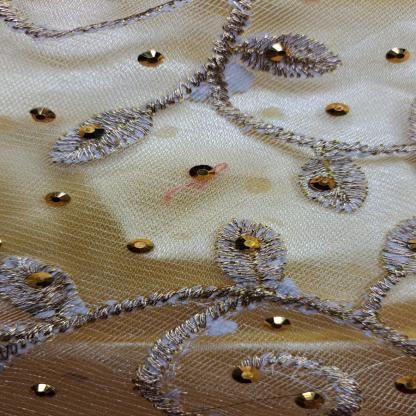spot: (154, 122, 190, 145), (250, 176, 280, 195), (255, 103, 288, 119), (173, 232, 202, 242)
